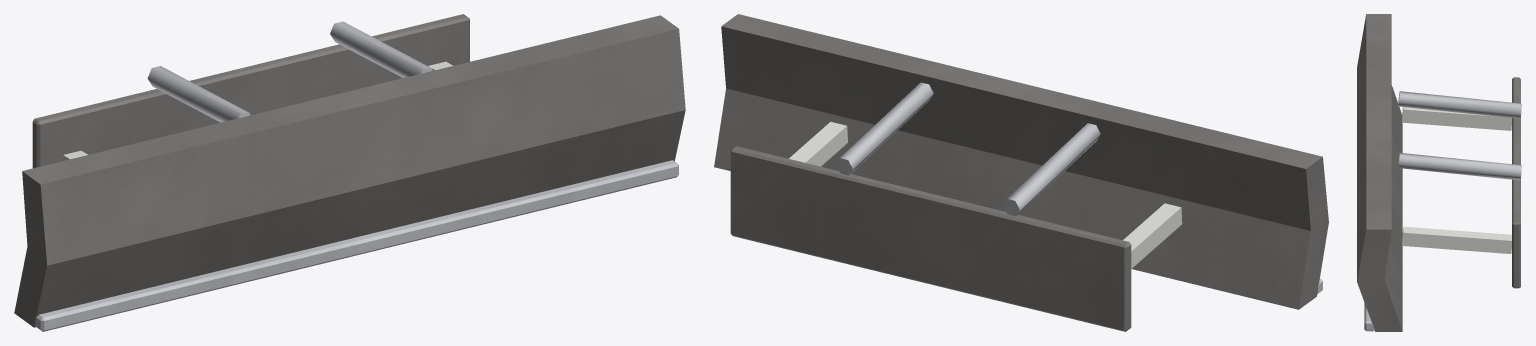
Rendered from ax_rover_21_regolith_blade.glb.
The picture shows the model from 3 angles, left to right: view 1: azimuth 30°, elevation 25°; view 2: azimuth 150°, elevation 25°; view 3: azimuth 270°, elevation 25°; orthographic projection. The views are drawn at different scales.
Visible parts, largest first — view 1: blade, mount_plate, cutting_edge, lift_actuators; view 2: blade, mount_plate, lift_actuators, push_frame; view 3: blade, lift_actuators, push_frame, mount_plate, cutting_edge.
Boxes of the visible parts, bbox=[...] form: blade: bbox=[14, 15, 685, 327]; mount_plate: bbox=[32, 14, 469, 168]; cutting_edge: bbox=[35, 160, 678, 331]; lift_actuators: bbox=[147, 21, 432, 122]; blade: bbox=[714, 14, 1328, 309]; mount_plate: bbox=[730, 146, 1131, 331]; lift_actuators: bbox=[836, 82, 1100, 216]; push_frame: bbox=[789, 121, 1182, 268]; blade: bbox=[1357, 14, 1402, 331]; lift_actuators: bbox=[1398, 91, 1521, 180]; push_frame: bbox=[1402, 107, 1511, 253]; mount_plate: bbox=[1512, 77, 1520, 288]; cutting_edge: bbox=[1364, 303, 1374, 331].
Bounding box in the file's own units: 2.8 × 0.62 × 0.9042.
Materials: 3 (2 with a texture image).
